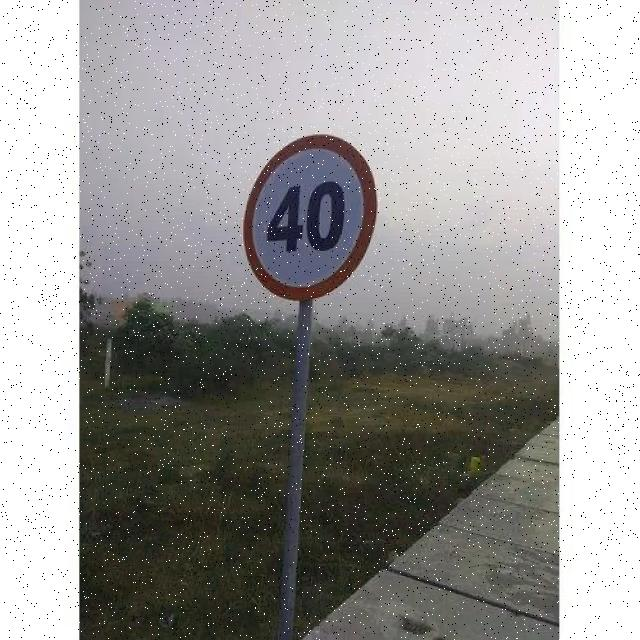speedlimit_40: (237, 115, 385, 328)
